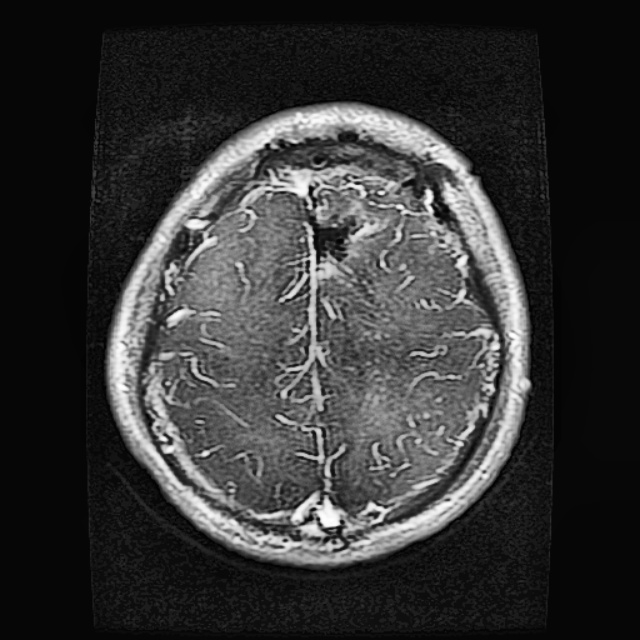Glioma: (255, 142, 438, 300)
